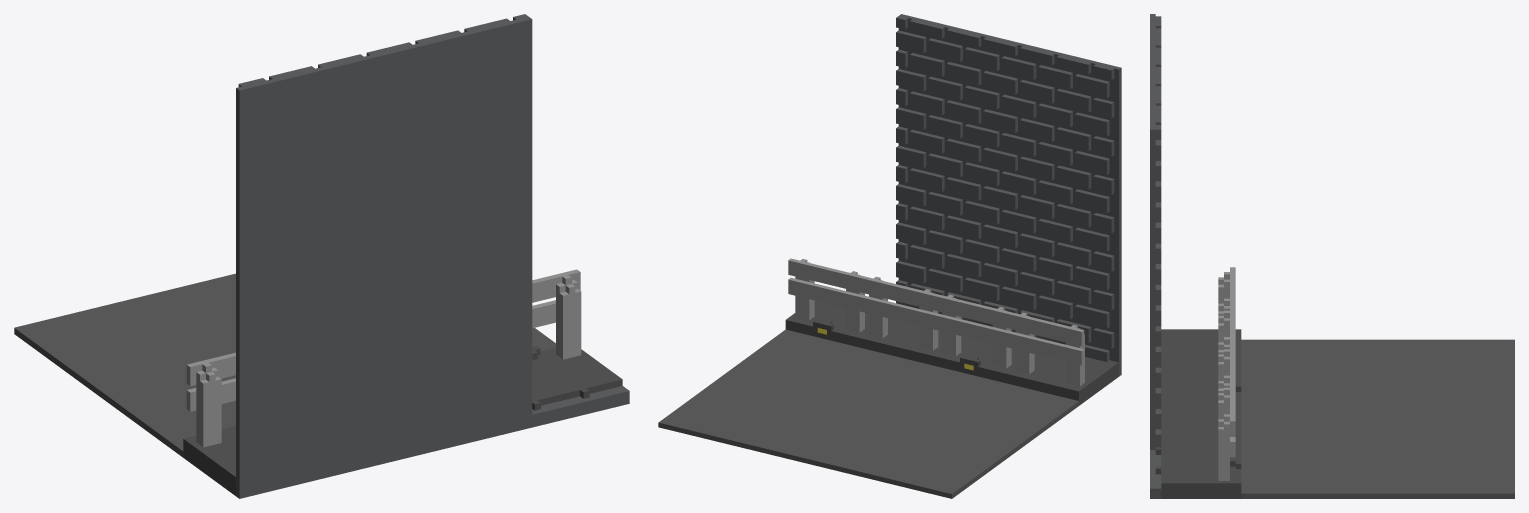
File: MapV3-89.obj
The picture shows the model from 3 angles, left to right: view 1: azimuth 30°, elevation 25°; view 2: azimuth 150°, elevation 25°; view 3: azimuth 270°, elevation 25°; orthographic projection. The views are drawn at different scales.
Size of the model in its own units: 6.4 by 6.4 by 6.4.
1 material, 1 textured.
